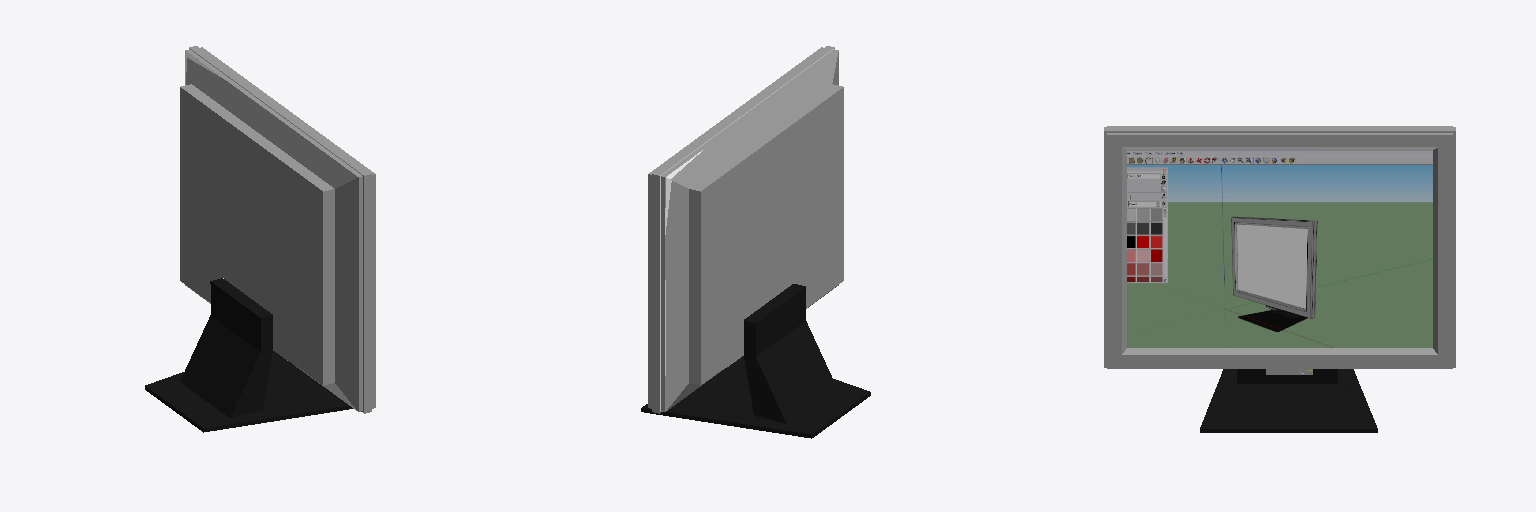
3 views of the same model, side by side, from view 1: azimuth 30°, elevation 25°; view 2: azimuth 150°, elevation 25°; view 3: azimuth 270°, elevation 25° (orthographic).
Visible parts, largest first — view 1: mesh1-geometry-0, mesh1-geometry-2; view 2: mesh1-geometry-0, mesh1-geometry-2, mesh1-geometry-1; view 3: mesh1-geometry-3, mesh1-geometry-0, mesh1-geometry-2, mesh1-geometry-1.
Part boxes in pixels (x1,y1,x2,y2): mesh1-geometry-0: (180, 46, 375, 413); mesh1-geometry-2: (145, 278, 352, 432); mesh1-geometry-0: (648, 46, 843, 413); mesh1-geometry-2: (641, 284, 870, 438); mesh1-geometry-1: (660, 49, 833, 410); mesh1-geometry-3: (1127, 150, 1432, 347); mesh1-geometry-0: (1104, 126, 1455, 374); mesh1-geometry-2: (1200, 369, 1377, 432); mesh1-geometry-1: (1122, 147, 1437, 149).
Bounding box in the file's own units: 0.3589 × 0.6147 × 0.7024.
5 materials, 1 textured.